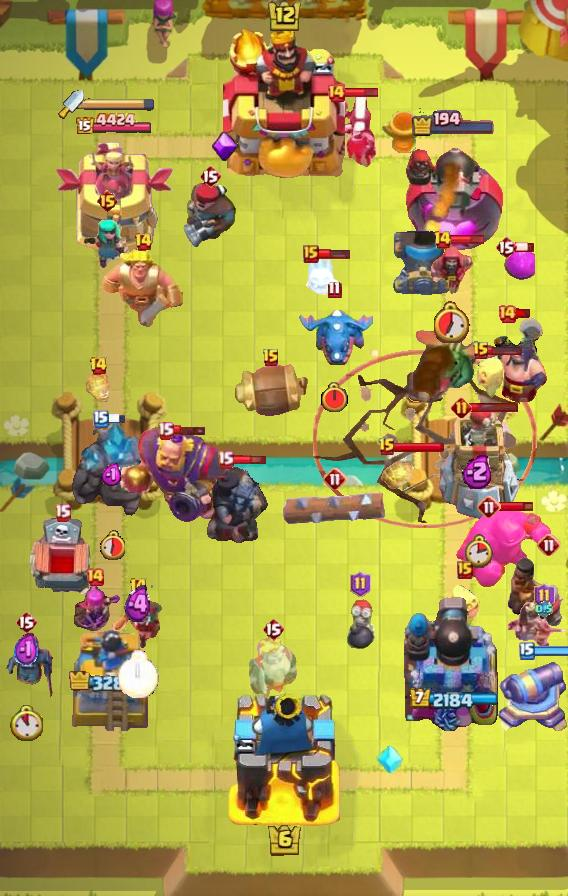archer-evolution: (70, 581, 120, 633)
bandit: (112, 594, 164, 652)
bar: (393, 441, 445, 453), (469, 402, 519, 413), (499, 500, 534, 513), (232, 453, 267, 466), (171, 424, 207, 436), (533, 645, 568, 657), (317, 248, 350, 260), (488, 345, 523, 356), (450, 234, 485, 245), (344, 87, 379, 98), (515, 241, 535, 253), (107, 413, 126, 425), (515, 308, 532, 319)
bar-level: (537, 533, 561, 557), (477, 495, 501, 519), (323, 467, 347, 491), (96, 189, 119, 213), (534, 583, 555, 609), (350, 571, 371, 597), (262, 617, 284, 641), (15, 610, 37, 634), (495, 235, 517, 259), (199, 164, 221, 188), (451, 397, 472, 418), (85, 567, 105, 587), (497, 304, 517, 324), (326, 83, 346, 103), (129, 577, 148, 597), (89, 356, 108, 376), (134, 232, 153, 252), (433, 230, 452, 250), (378, 437, 396, 457), (262, 348, 280, 368), (472, 341, 490, 361), (54, 503, 71, 522), (217, 450, 234, 469), (157, 421, 174, 440), (519, 642, 535, 660), (457, 561, 473, 579), (93, 410, 109, 428), (303, 245, 319, 263), (327, 280, 342, 299)
barbarian-barrel: (231, 364, 311, 418)
bomber: (343, 599, 377, 653)
cannoneer-tower: (404, 593, 502, 731), (403, 138, 504, 256)
clock: (118, 650, 159, 698), (434, 301, 470, 343), (10, 705, 43, 741), (464, 534, 493, 568), (320, 382, 349, 414), (99, 530, 125, 560)
dagger-duchess-tower: (55, 142, 174, 256)
dagger-duchess-tower-bar: (84, 97, 156, 111)
electro-dragon: (295, 304, 373, 368)
elixir: (462, 453, 494, 489), (124, 585, 153, 624), (14, 632, 39, 669), (101, 463, 123, 487), (535, 601, 553, 617)
elixir-golem-small: (503, 250, 535, 280)
evolution-symbol: (211, 131, 239, 163)
executioner: (492, 317, 550, 403)
heal-spirit: (448, 582, 482, 626), (475, 354, 507, 398)
hunter: (181, 181, 239, 251)
ice-spirit: (298, 257, 343, 299)
ice-spirit-evolution-symbol: (376, 742, 404, 776)
king-tower: (223, 27, 345, 181), (227, 688, 342, 826)
lava-pup: (379, 449, 419, 493), (82, 368, 114, 404)
mini-pekka: (0, 633, 58, 701)
mortar: (393, 231, 453, 295)
night-witch: (317, 96, 379, 168)
princess: (506, 600, 568, 652)
queen-tower: (64, 621, 164, 731)
ram-rider: (506, 556, 568, 632)
rascal-girl: (82, 218, 132, 272)
royal-ghost: (247, 634, 299, 702)
the-log: (282, 492, 389, 528)
tower-bar: (411, 110, 496, 137), (69, 671, 159, 695), (408, 688, 498, 711), (75, 112, 153, 137)
wizard: (428, 245, 476, 297)
